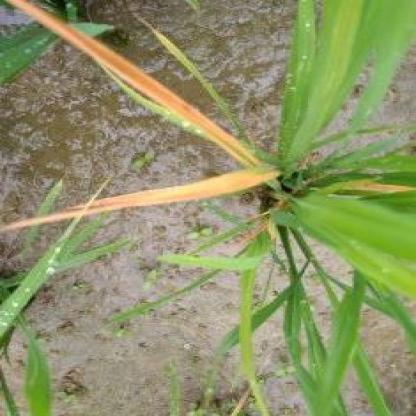Tungro: (14, 2, 266, 168), (14, 165, 287, 224)
